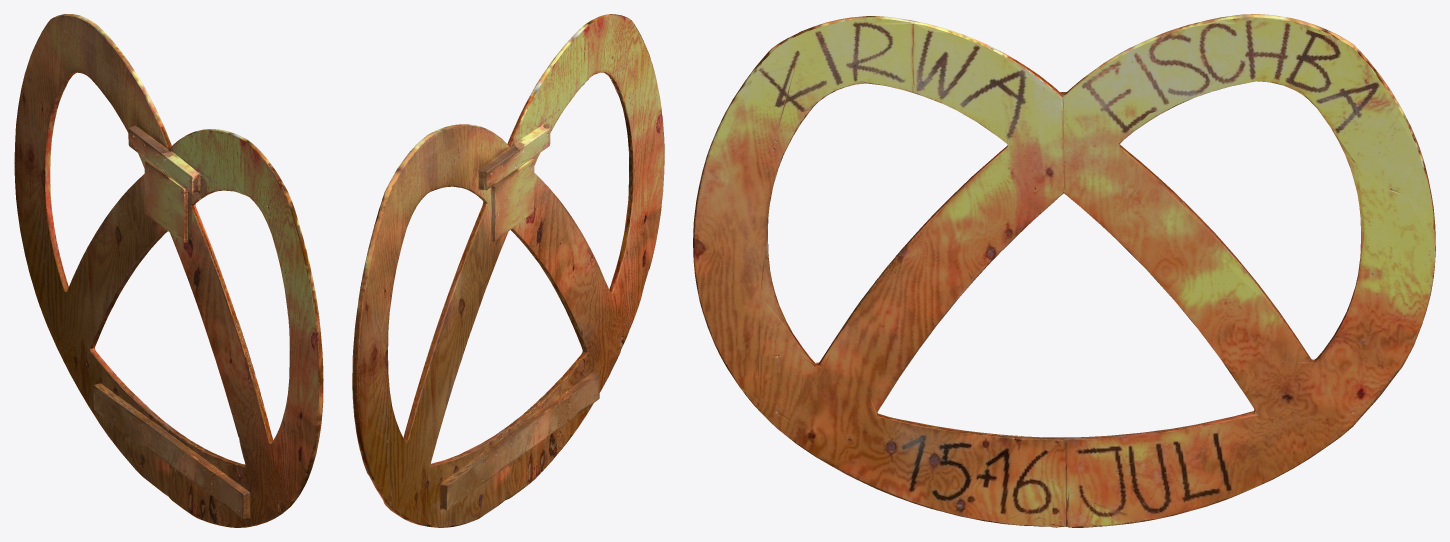
File: 9071D540-2E9C-8645-BBF5-72E13DFEF517_512.glb
The picture shows the model from 3 angles, left to right: view 1: azimuth 30°, elevation 25°; view 2: azimuth 150°, elevation 25°; view 3: azimuth 270°, elevation 25°; orthographic projection. The views are drawn at different scales.
Visible parts, largest first — view 1: Holzbreze_40k_512; view 2: Holzbreze_40k_512; view 3: Holzbreze_40k_512.
Part boxes in pixels (bbox=[...]): Holzbreze_40k_512: bbox=[14, 14, 323, 527]; Holzbreze_40k_512: bbox=[352, 14, 664, 527]; Holzbreze_40k_512: bbox=[693, 14, 1435, 527].
Bounding box in the file's own units: 0.0732 × 1.8 × 2.37.
1 material, 1 textured.
